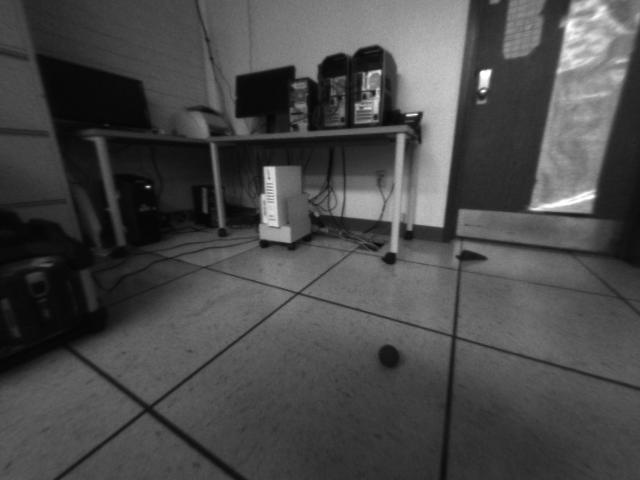dogtoy: (373, 339, 405, 370)
